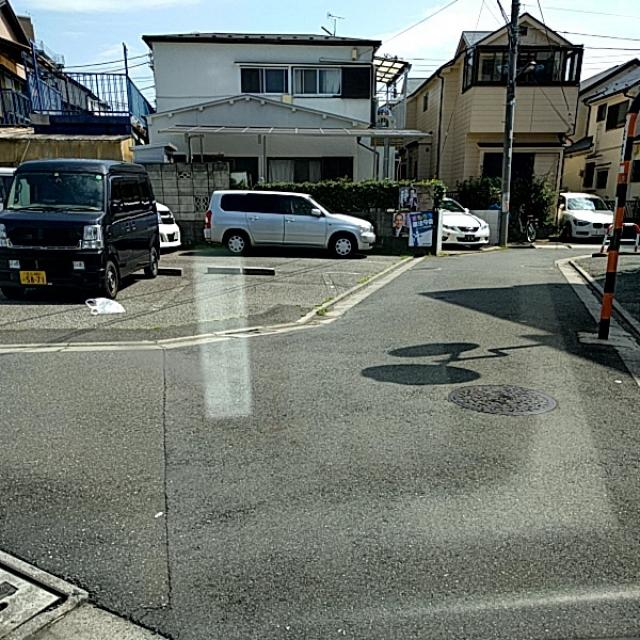pothole: (137, 401, 192, 525)
